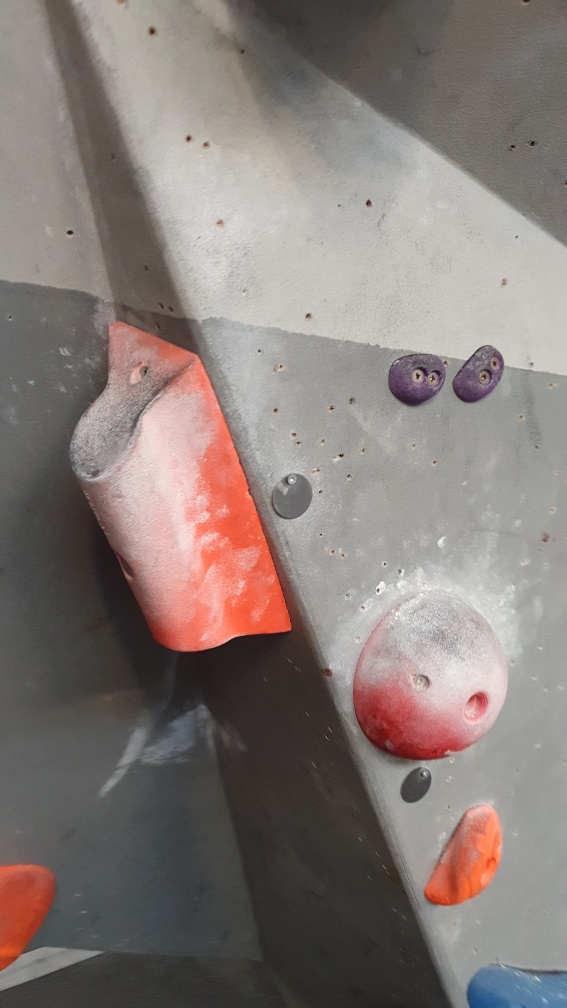Hand Start: (267, 469, 322, 527), (396, 759, 437, 807)
Pinch: (64, 318, 294, 661)
Sloper: (352, 590, 510, 760)
